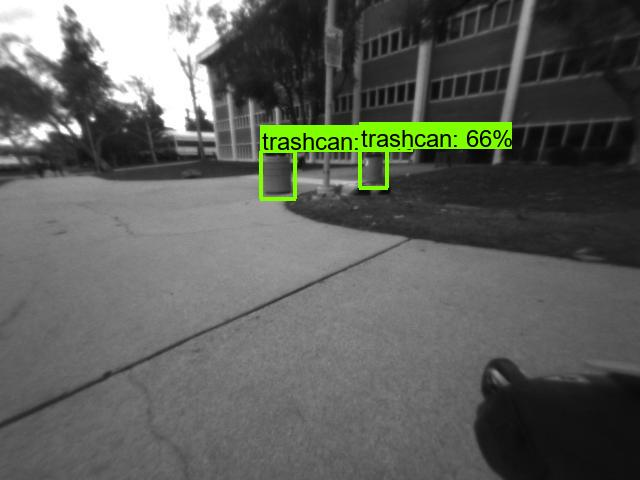trashcan: (265, 154, 296, 194), (363, 151, 389, 186)
